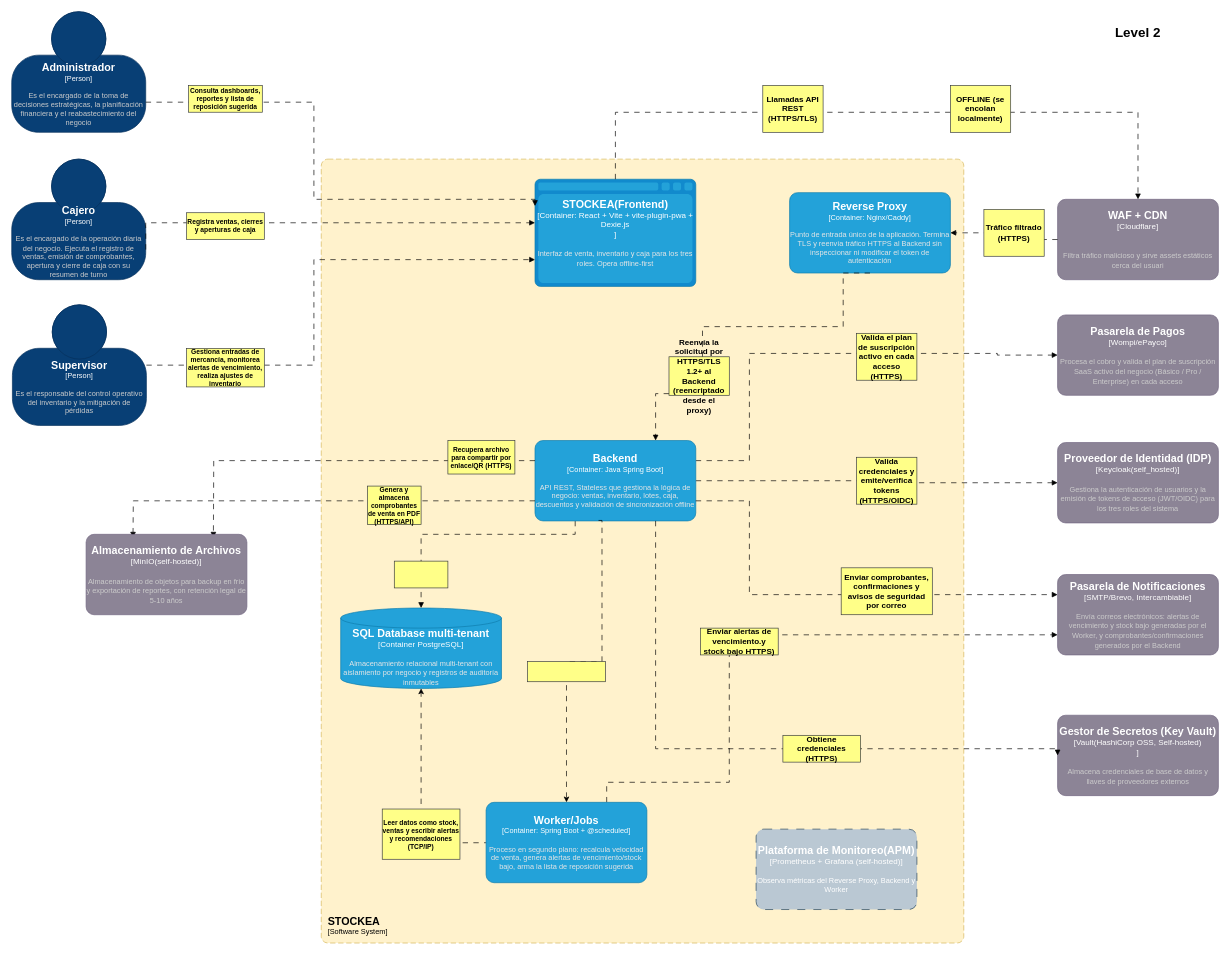
Some shapes in this 1230 by 955 pixel diagram are drawn without their labels. Each missing label, with the centre of its shape:
Leer y escribir datos(TCP/IP): [421,574]
Llamadas API REST JSON (HTTPS): [566,671]
